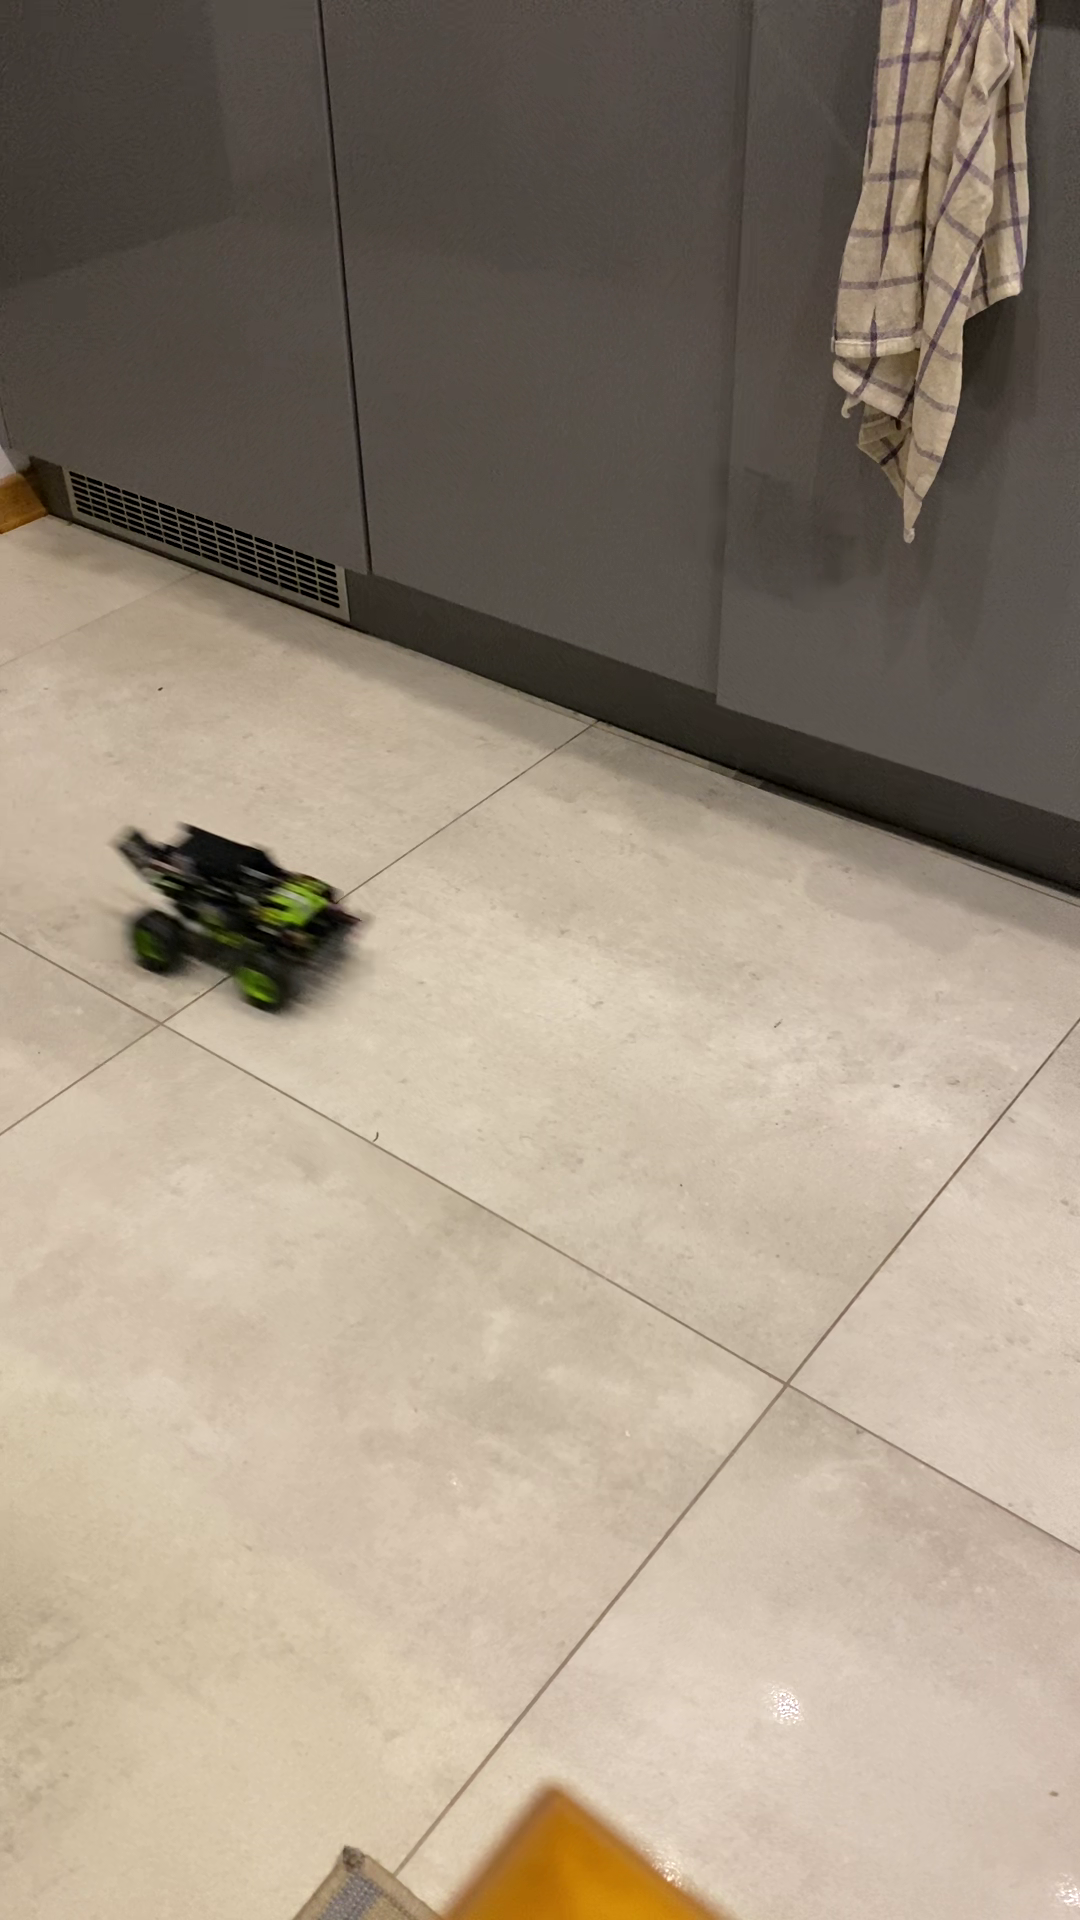car: (117, 811, 388, 1018)
